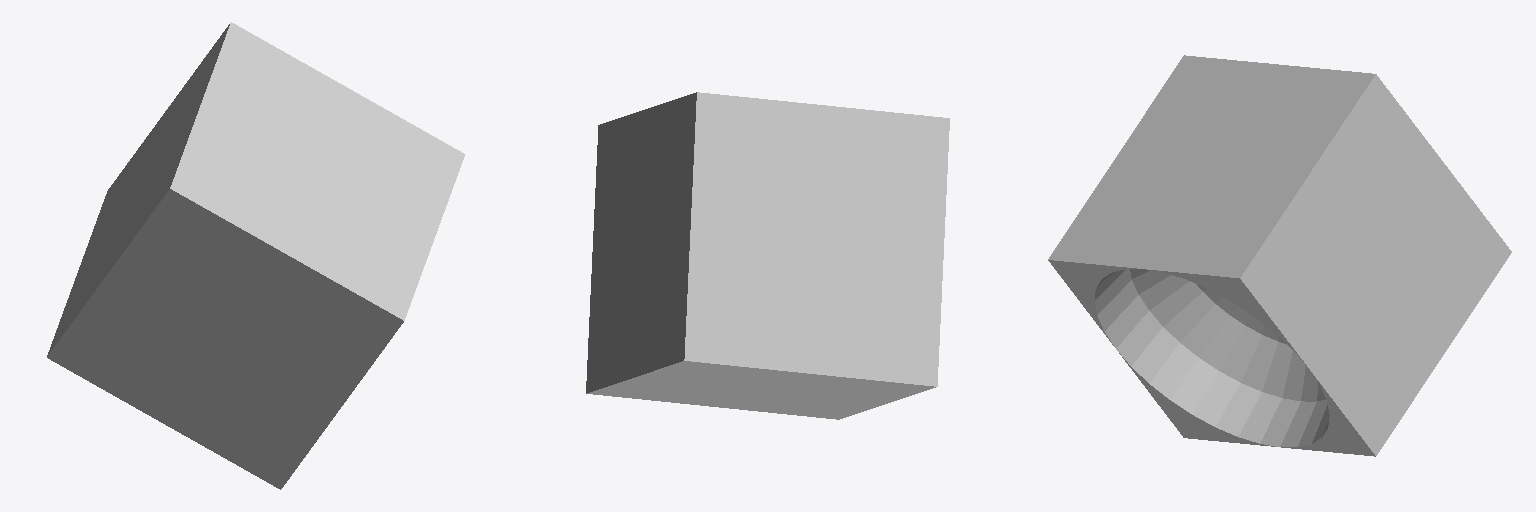
File: krijt_01.obj
The picture shows the model from 3 angles: view 1: azimuth 30°, elevation 25°; view 2: azimuth 150°, elevation 25°; view 3: azimuth 270°, elevation 25°; orthographic projection.
Parts seen in each view (by area): view 1: Cube_Cube.000; view 2: Cube_Cube.000; view 3: Cube_Cube.000.
Part boxes in pixels (x1,y1,x2,y2): Cube_Cube.000: (47, 22, 464, 489); Cube_Cube.000: (586, 92, 949, 419); Cube_Cube.000: (1048, 55, 1511, 456).
Size of the model in its own units: 1.45 by 1.41 by 1.54.